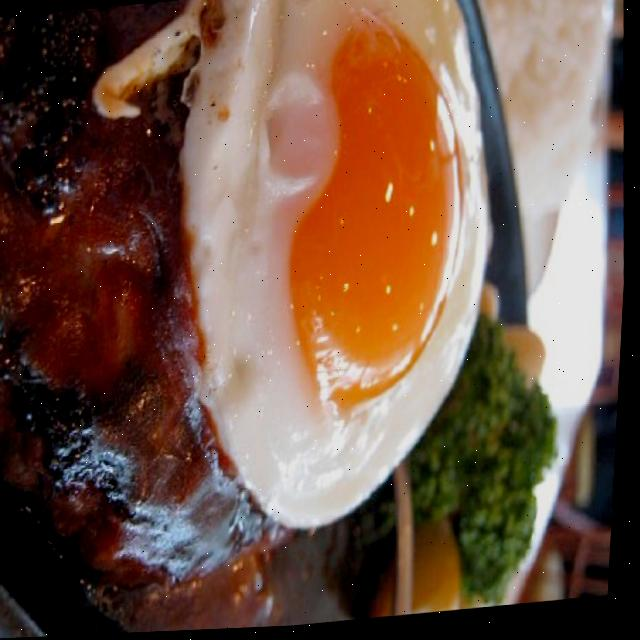鸡蛋料理: (344, 0, 587, 389)
